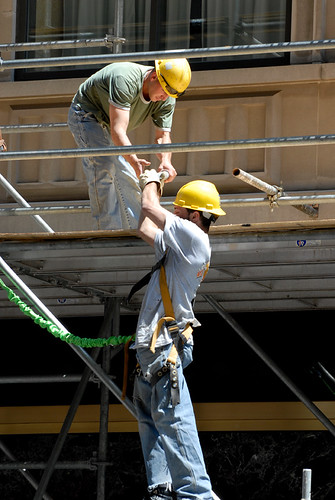person hardhat: (125, 170, 250, 500), (60, 56, 195, 222)
